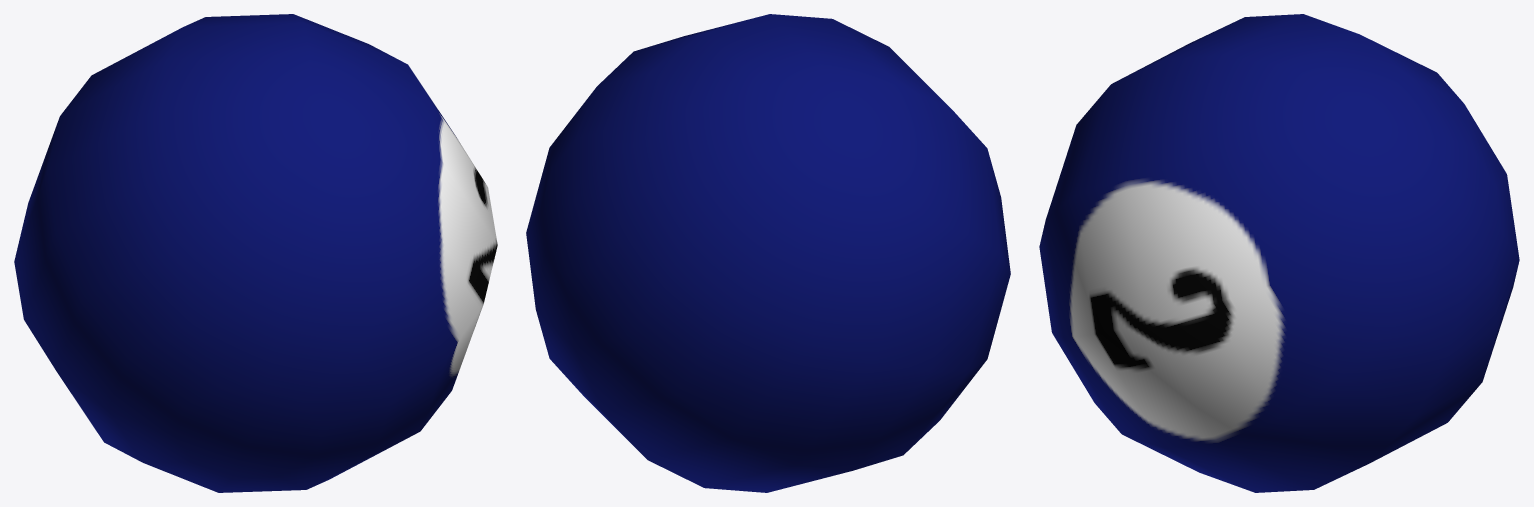
Rendered from Ball2.gltf.
3 views of the same model, side by side, from view 1: azimuth 30°, elevation 25°; view 2: azimuth 150°, elevation 25°; view 3: azimuth 270°, elevation 25° (orthographic).
Parts seen in each view (by area): view 1: Ball2_Material_#33_0; view 2: Ball2_Material_#33_0; view 3: Ball2_Material_#33_0.
Part boxes in pixels (bbox=[...]): Ball2_Material_#33_0: bbox=[14, 14, 497, 492]; Ball2_Material_#33_0: bbox=[526, 14, 1010, 492]; Ball2_Material_#33_0: bbox=[1039, 14, 1519, 492].
Size of the model in its own units: 5.57 by 5.59 by 5.76.
1 material, 1 textured.
